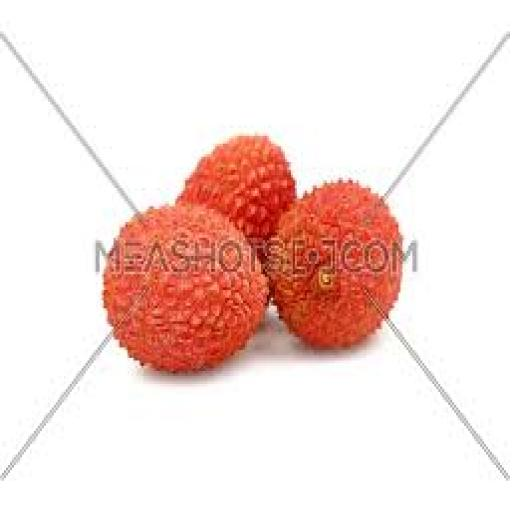lychee: (104, 204, 266, 370), (269, 181, 402, 347), (178, 136, 294, 248)
